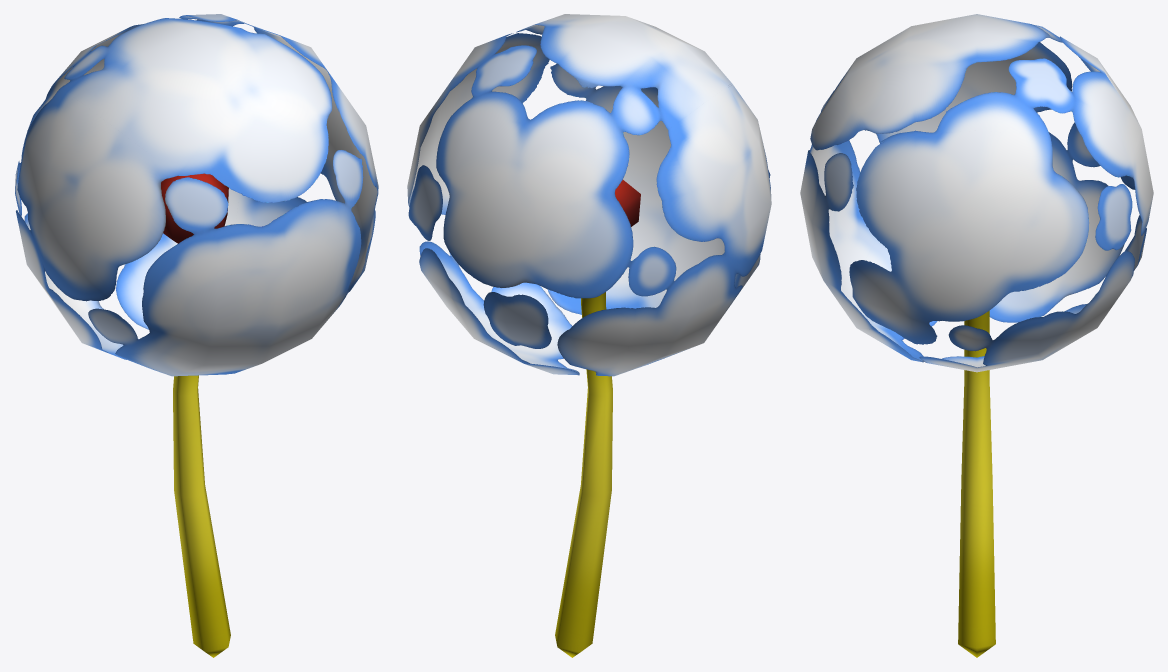
File: o_dandy.fbx
3 renders of one model, left to right at view 1: azimuth 30°, elevation 25°; view 2: azimuth 150°, elevation 25°; view 3: azimuth 270°, elevation 25°, orthographic. The views are drawn at different scales.
Visible parts, largest first — view 1: pCube3, pCylinder1; view 2: pCube3, pCylinder1; view 3: pCube3, pCylinder1.
Boxes of the visible parts, x1,y1,x2,y2 form: pCube3: (15,14,378,376); pCylinder1: (161,173,230,657); pCube3: (407,14,771,376); pCylinder1: (555,180,640,657); pCube3: (800,14,1153,372); pCylinder1: (958,310,995,657).
Bounding box in the file's own units: 4.3 × 8.27 × 4.3.
2 materials, 2 textured.
